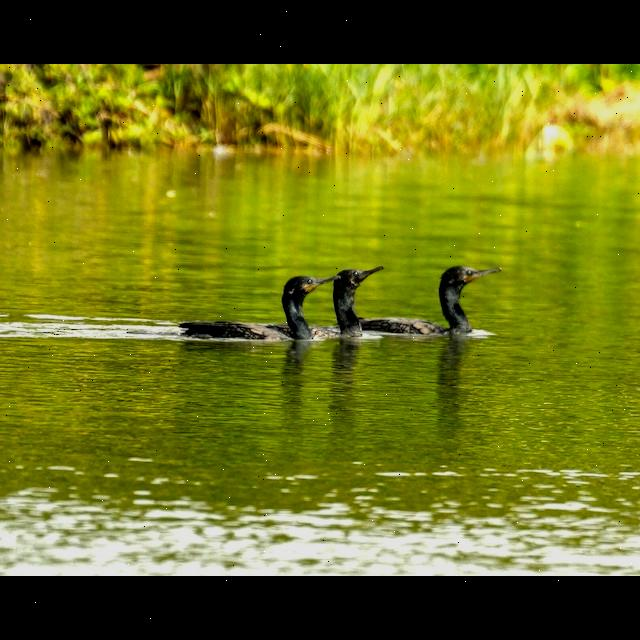cormorant: (168, 272, 340, 342), (364, 262, 504, 332), (313, 265, 387, 347)
